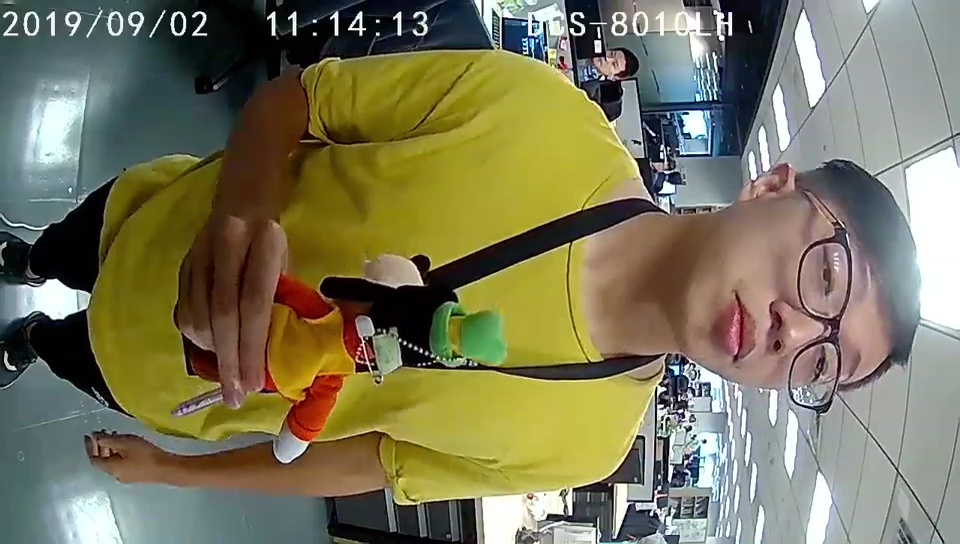goofy: (272, 274, 504, 463)
